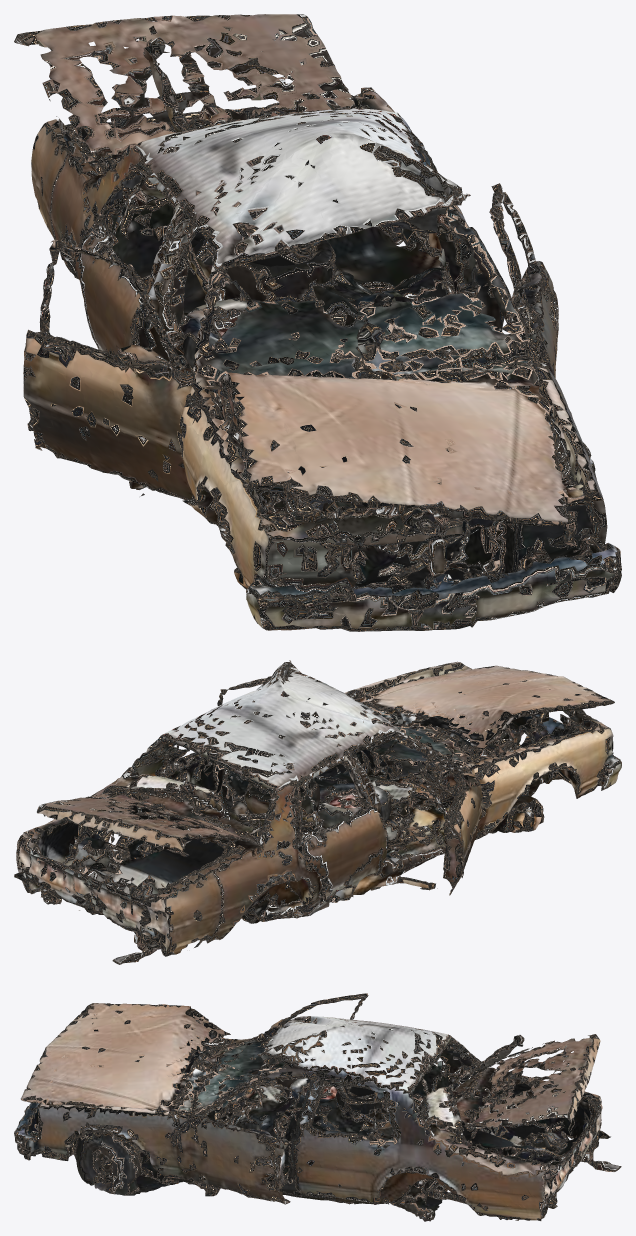
The model's file is wreck.glb.
The picture shows the model from 3 angles, top to bottom: view 1: azimuth 30°, elevation 25°; view 2: azimuth 150°, elevation 25°; view 3: azimuth 270°, elevation 25°; orthographic projection. The views are drawn at different scales.
Visible parts, largest first — view 1: Object_2; view 2: Object_2; view 3: Object_2.
Part boxes in pixels (<box>): Object_2: <box>14,14,621,631</box>; Object_2: <box>14,660,621,964</box>; Object_2: <box>14,993,621,1221</box>.
Size of the model in its own units: 16.63 by 8.37 by 28.9.
Materials: 1 (1 with a texture image).
